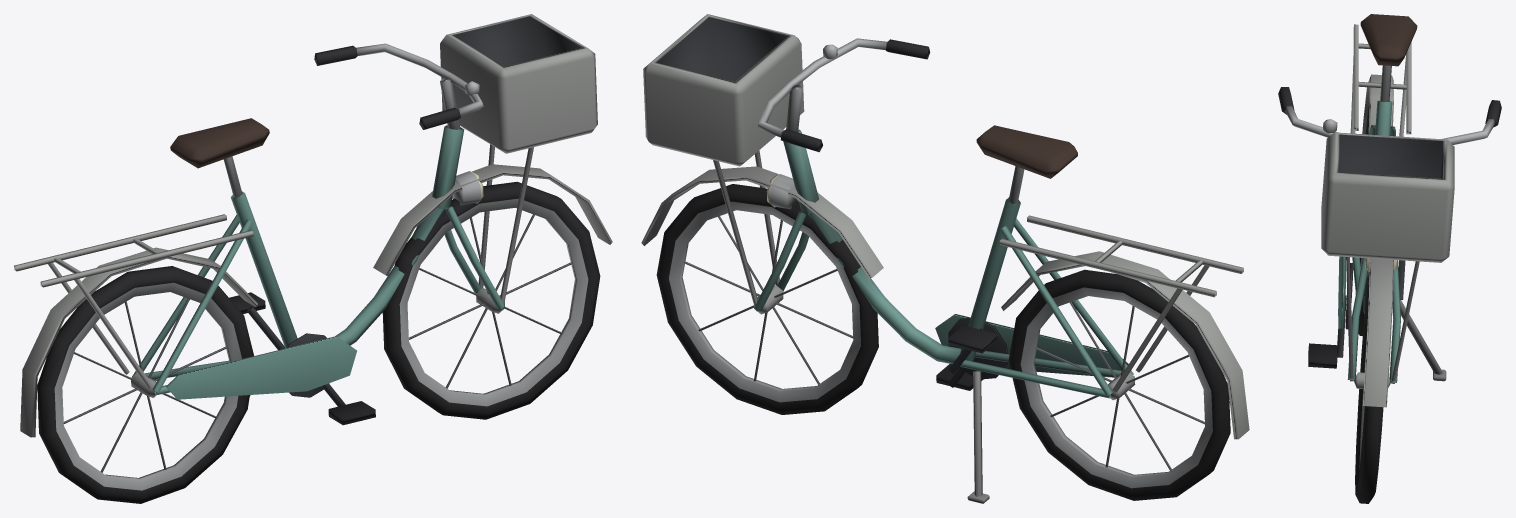
Rendered from Bicycle.fbx.
The picture shows the model from 3 angles, left to right: view 1: azimuth 30°, elevation 25°; view 2: azimuth 150°, elevation 25°; view 3: azimuth 270°, elevation 25°; orthographic projection. The views are drawn at different scales.
Parts seen in each view (by area): view 1: Bicycle; view 2: Bicycle; view 3: Bicycle.
Boxes of the visible parts, <box> form: Bicycle: <box>14,14,612,503</box>; Bicycle: <box>641,14,1249,503</box>; Bicycle: <box>1278,14,1501,503</box>.
Size of the model in its own units: 1.78 by 1.05 by 0.5926.
